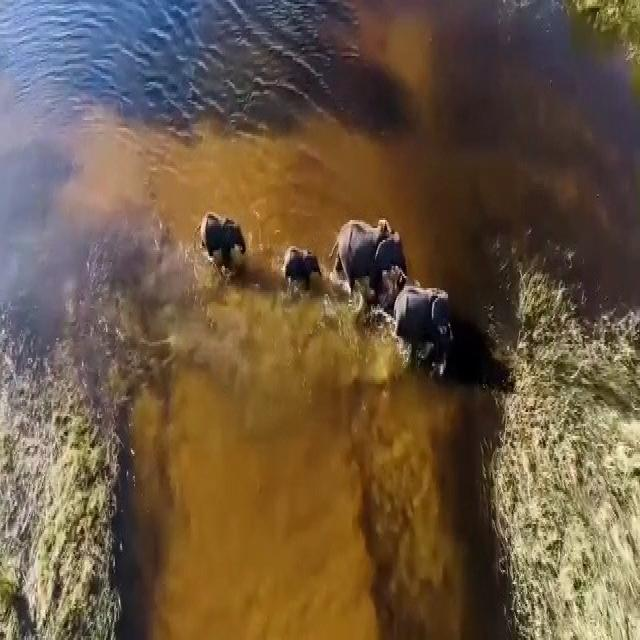Elephant: (330, 213, 402, 305), (392, 276, 456, 358), (202, 208, 250, 266), (287, 242, 322, 293)
